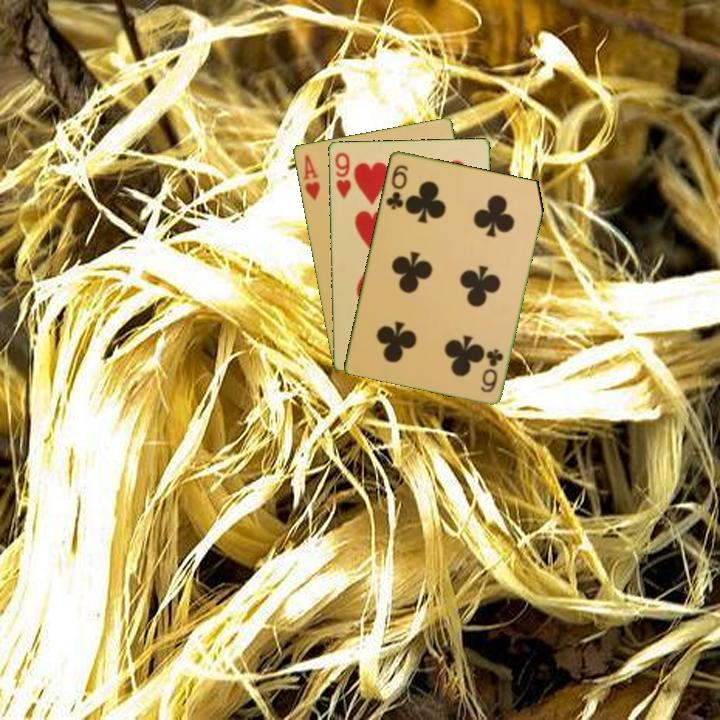6c: (382, 161, 411, 212), (477, 345, 506, 395)
9h: (331, 149, 354, 201)
Ah: (299, 151, 323, 203)
